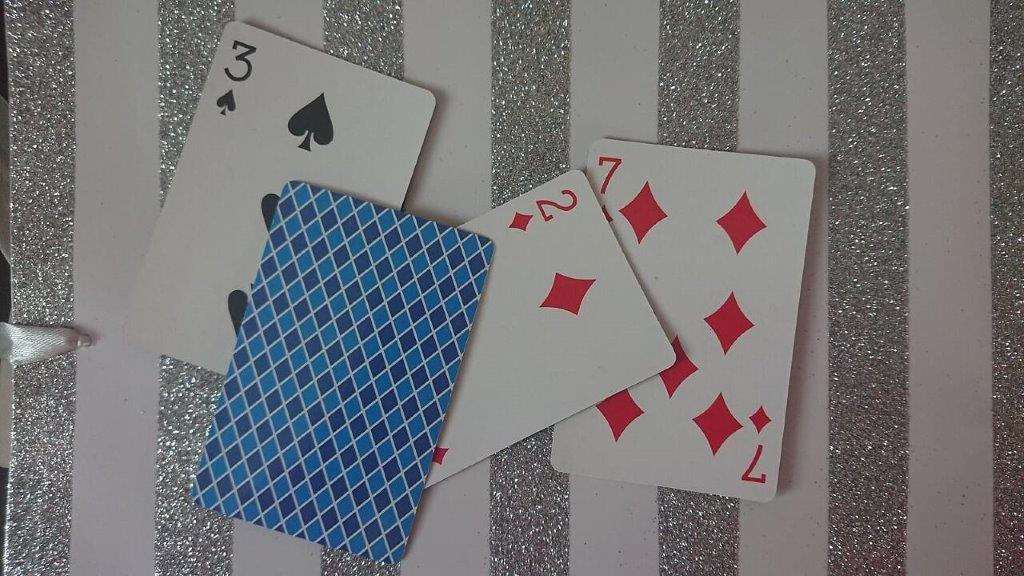3S: (204, 32, 266, 121)
BACK: (191, 180, 494, 563)
